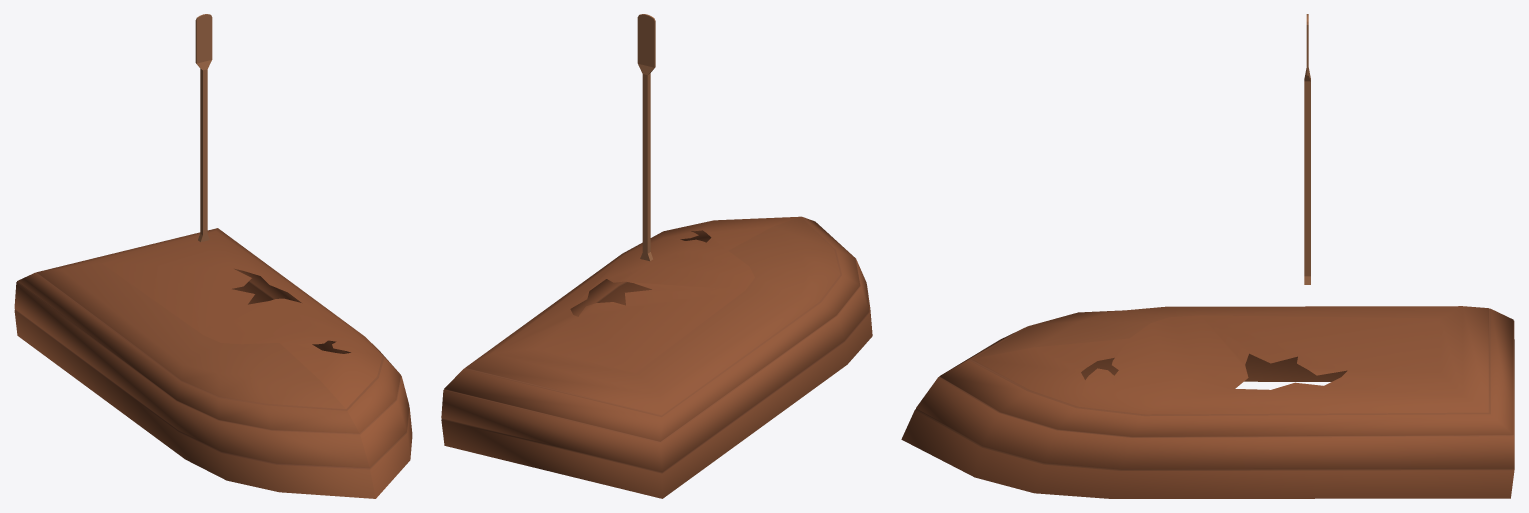
File: boat.fbx
3 views of the same model, side by side, from view 1: azimuth 30°, elevation 25°; view 2: azimuth 150°, elevation 25°; view 3: azimuth 270°, elevation 25° (orthographic). The views are drawn at different scales.
Visible parts, largest first — view 1: Cube, Cube.001; view 2: Cube, Cube.001; view 3: Cube, Cube.001.
Boxes of the visible parts, box(x1,y1,x2,y2) form: Cube: box(14, 228, 412, 498); Cube.001: box(195, 14, 212, 242); Cube: box(441, 216, 872, 498); Cube.001: box(637, 14, 655, 261); Cube: box(901, 306, 1514, 498); Cube.001: box(1304, 14, 1310, 284).
Bounding box in the file's own units: 4.3 × 7.1 × 9.29.
Materials: 1 (1 with a texture image).
